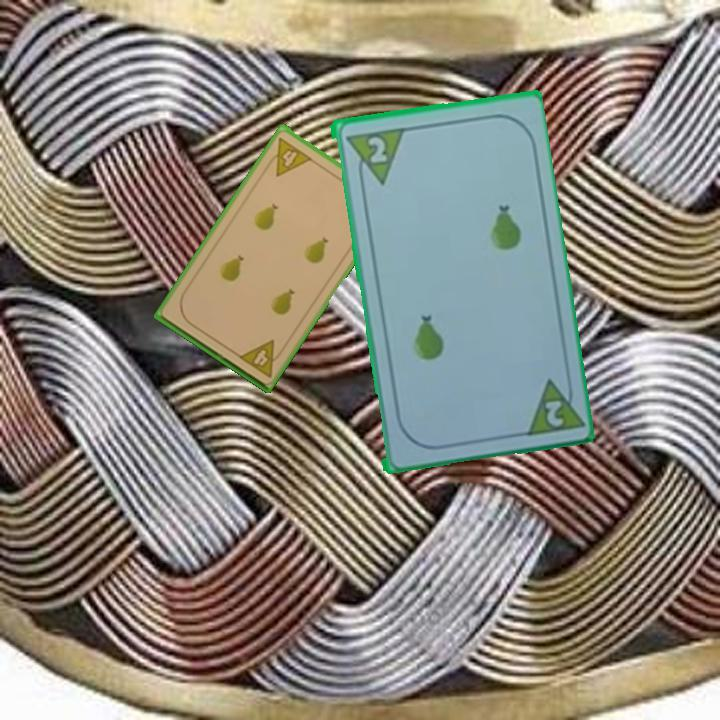2p: (518, 371, 584, 439), (363, 132, 389, 166)
4p: (262, 134, 315, 179), (235, 336, 287, 381)
